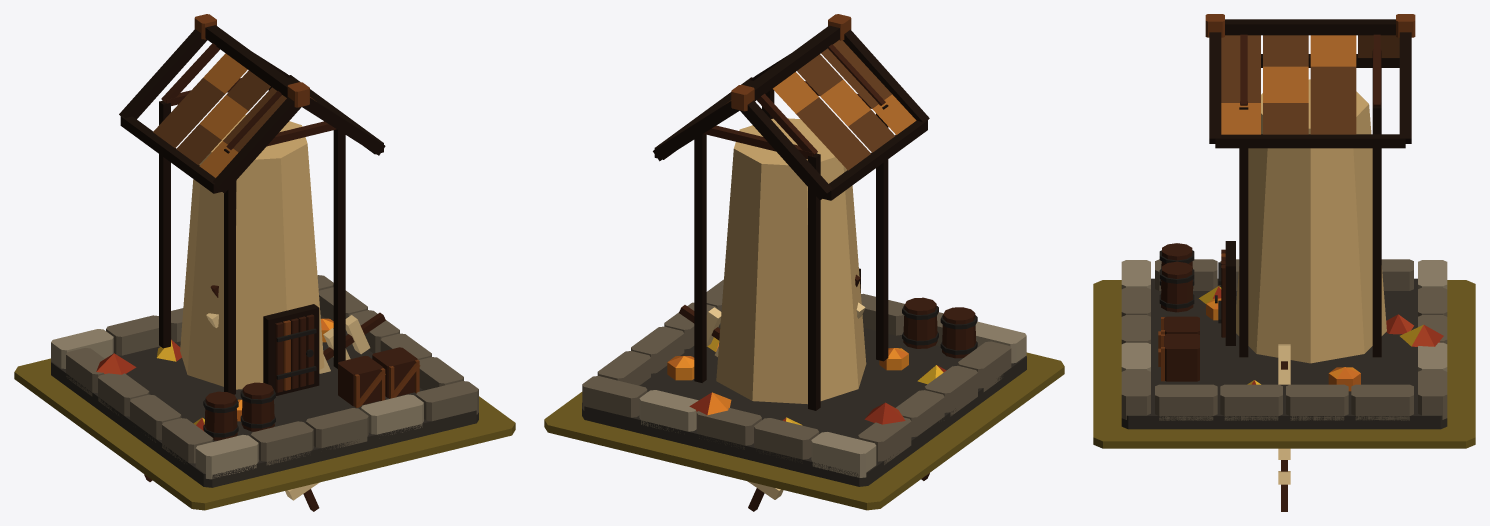
The model's file is mill_t2.glb.
3 renders of one model, left to right at view 1: azimuth 30°, elevation 25°; view 2: azimuth 150°, elevation 25°; view 3: azimuth 270°, elevation 25°, orthographic. The views are drawn at different scales.
Parts seen in each view (by area): view 1: MMR | mill | T02 Architecture.001, MMR | mill | Tier 02 Ground.001, MMR | mill | T02 Wind Rotor.001, MMR | mill | T02 Autumn Dressing.001; view 2: MMR | mill | T02 Architecture.001, MMR | mill | Tier 02 Ground.001, MMR | mill | T02 Autumn Dressing.001, MMR | mill | T02 Wind Rotor.001; view 3: MMR | mill | T02 Architecture.001, MMR | mill | Tier 02 Ground.001, MMR | mill | T02 Autumn Dressing.001, MMR | mill | T02 Wind Rotor.001.
Boxes of the visible parts, x1=… form: MMR | mill | T02 Architecture.001: x1=51, y1=14, x2=478, y2=487; MMR | mill | Tier 02 Ground.001: x1=14, y1=358, x2=515, y2=510; MMR | mill | T02 Wind Rotor.001: x1=144, y1=285, x2=385, y2=511; MMR | mill | T02 Autumn Dressing.001: x1=96, y1=318, x2=333, y2=430; MMR | mill | T02 Architecture.001: x1=582, y1=14, x2=1026, y2=486; MMR | mill | Tier 02 Ground.001: x1=544, y1=352, x2=1064, y2=510; MMR | mill | T02 Autumn Dressing.001: x1=667, y1=337, x2=946, y2=425; MMR | mill | T02 Wind Rotor.001: x1=679, y1=274, x2=929, y2=511; MMR | mill | T02 Architecture.001: x1=1121, y1=14, x2=1447, y2=429; MMR | mill | Tier 02 Ground.001: x1=1093, y1=280, x2=1475, y2=448; MMR | mill | T02 Autumn Dressing.001: x1=1199, y1=286, x2=1443, y2=391; MMR | mill | T02 Wind Rotor.001: x1=1278, y1=344, x2=1290, y2=511.
Bounding box in the file's own units: 2.35 × 3.19 × 2.35.
Materials: 1 (1 with a texture image).
